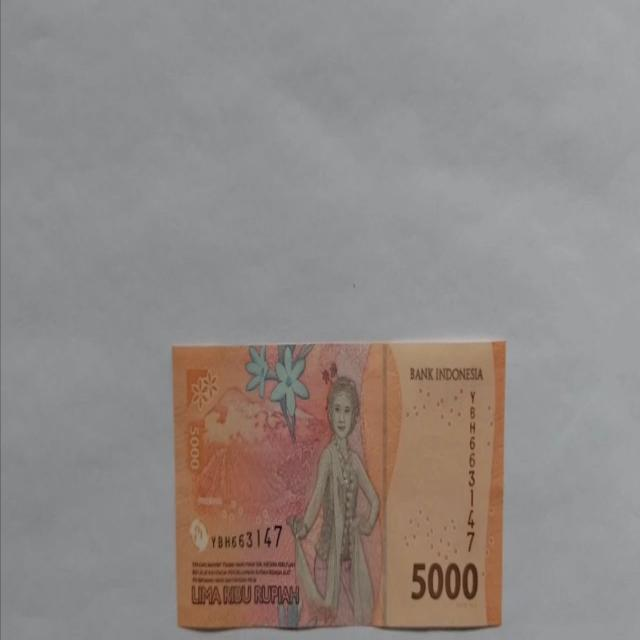lima ribu rupiah: (172, 340, 506, 630), (284, 374, 382, 627)
